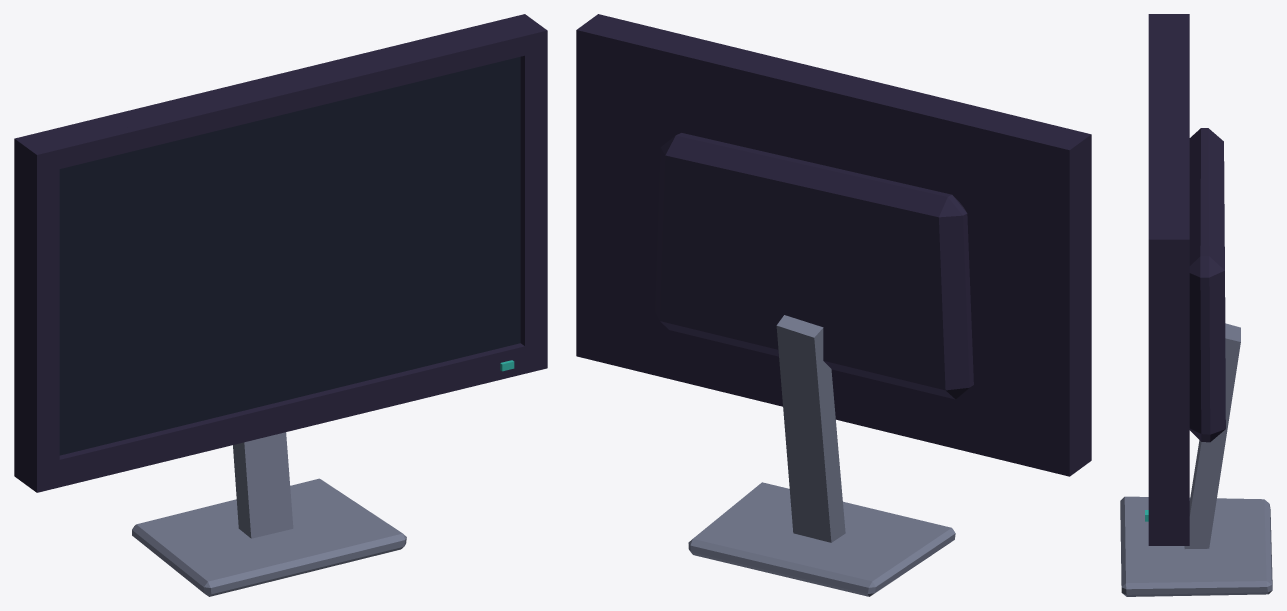
Rendered from monitor.fbx.
3 views of the same model, side by side, from view 1: azimuth 30°, elevation 25°; view 2: azimuth 150°, elevation 25°; view 3: azimuth 270°, elevation 25° (orthographic). The views are drawn at different scales.
Visible parts, largest first — view 1: monitor; view 2: monitor; view 3: monitor.
Part boxes in pixels (x1=…): monitor: x1=14, y1=14, x2=547, y2=596; monitor: x1=576, y1=14, x2=1091, y2=596; monitor: x1=1120, y1=14, x2=1272, y2=596.
Bounding box in the file's own units: 0.68 × 0.6 × 0.1942.
